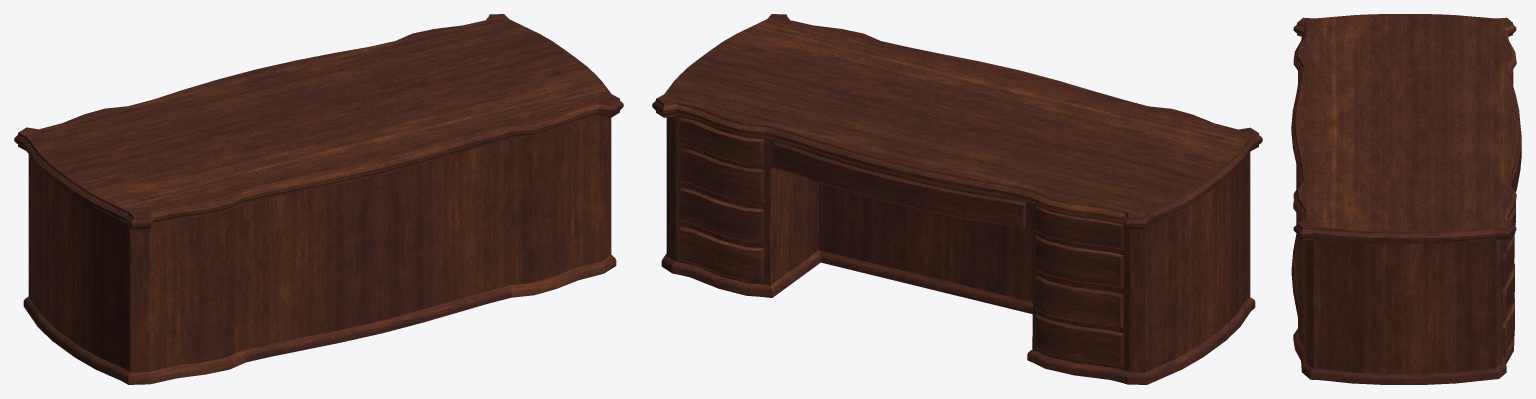
The model's file is SM_Table_a_001.fbx.
3 renders of one model, left to right at view 1: azimuth 30°, elevation 25°; view 2: azimuth 150°, elevation 25°; view 3: azimuth 270°, elevation 25°, orthographic. The views are drawn at different scales.
Parts seen in each view (by area): view 1: SM_Table_a_001; view 2: SM_Table_a_001; view 3: SM_Table_a_001.
Part boxes in pixels (left/top/right/bottom): SM_Table_a_001: left=14, top=14, right=623, bottom=384; SM_Table_a_001: left=652, top=14, right=1262, bottom=384; SM_Table_a_001: left=1291, top=14, right=1521, bottom=384.
Bounding box in the file's own units: 249 × 79.55 × 110.
